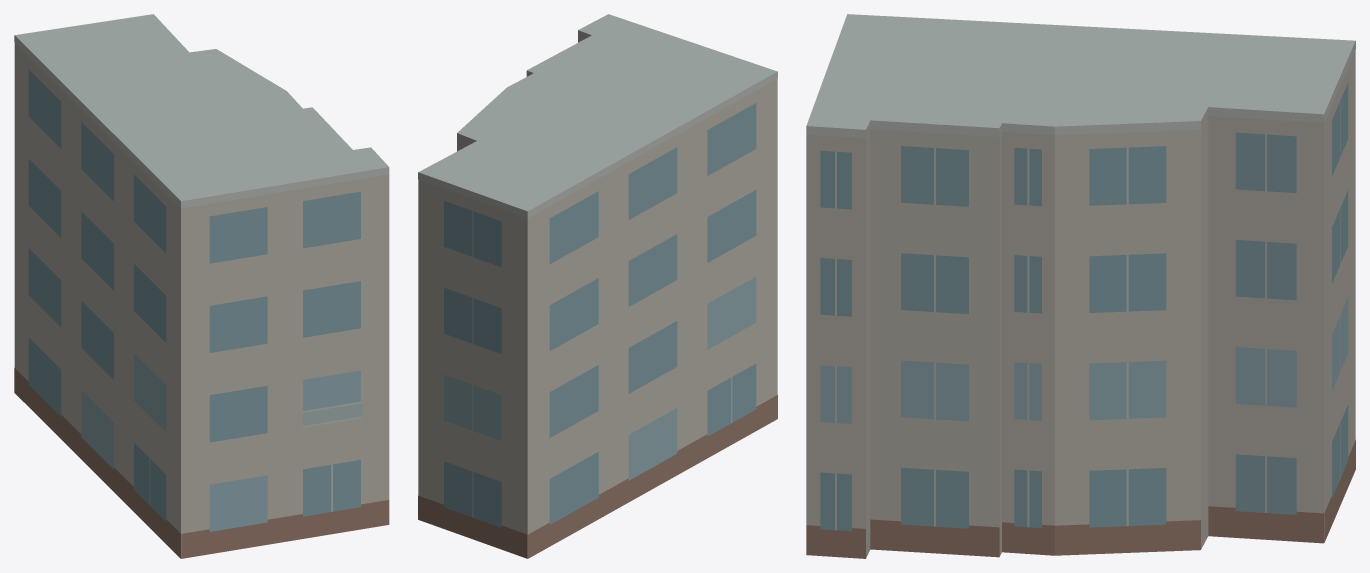
The model's file is survey-upis-32474639.glb.
The picture shows the model from 3 angles, left to right: view 1: azimuth 30°, elevation 25°; view 2: azimuth 150°, elevation 25°; view 3: azimuth 270°, elevation 25°; orthographic projection. The views are drawn at different scales.
Parts seen in each view (by area): view 1: survey-upis-32474639.tmp; view 2: survey-upis-32474639.tmp; view 3: survey-upis-32474639.tmp.
Boxes of the visible parts, bbox=[...] form: survey-upis-32474639.tmp: bbox=[14, 14, 389, 558]; survey-upis-32474639.tmp: bbox=[418, 14, 777, 558]; survey-upis-32474639.tmp: bbox=[806, 14, 1355, 558].
Size of the model in its own units: 7.01 by 12.1 by 14.05.
